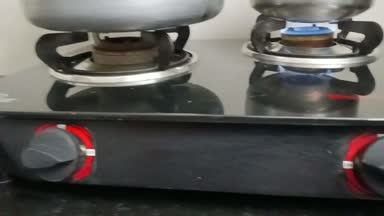flame_gas_off: (21, 24, 165, 187)
flame_gas_on: (255, 14, 360, 77)
